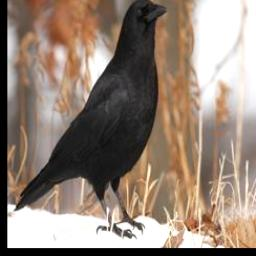Crow: (13, 0, 170, 240)
